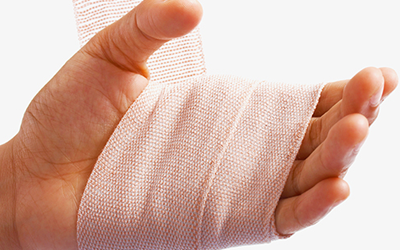injured: (133, 60, 330, 248)
